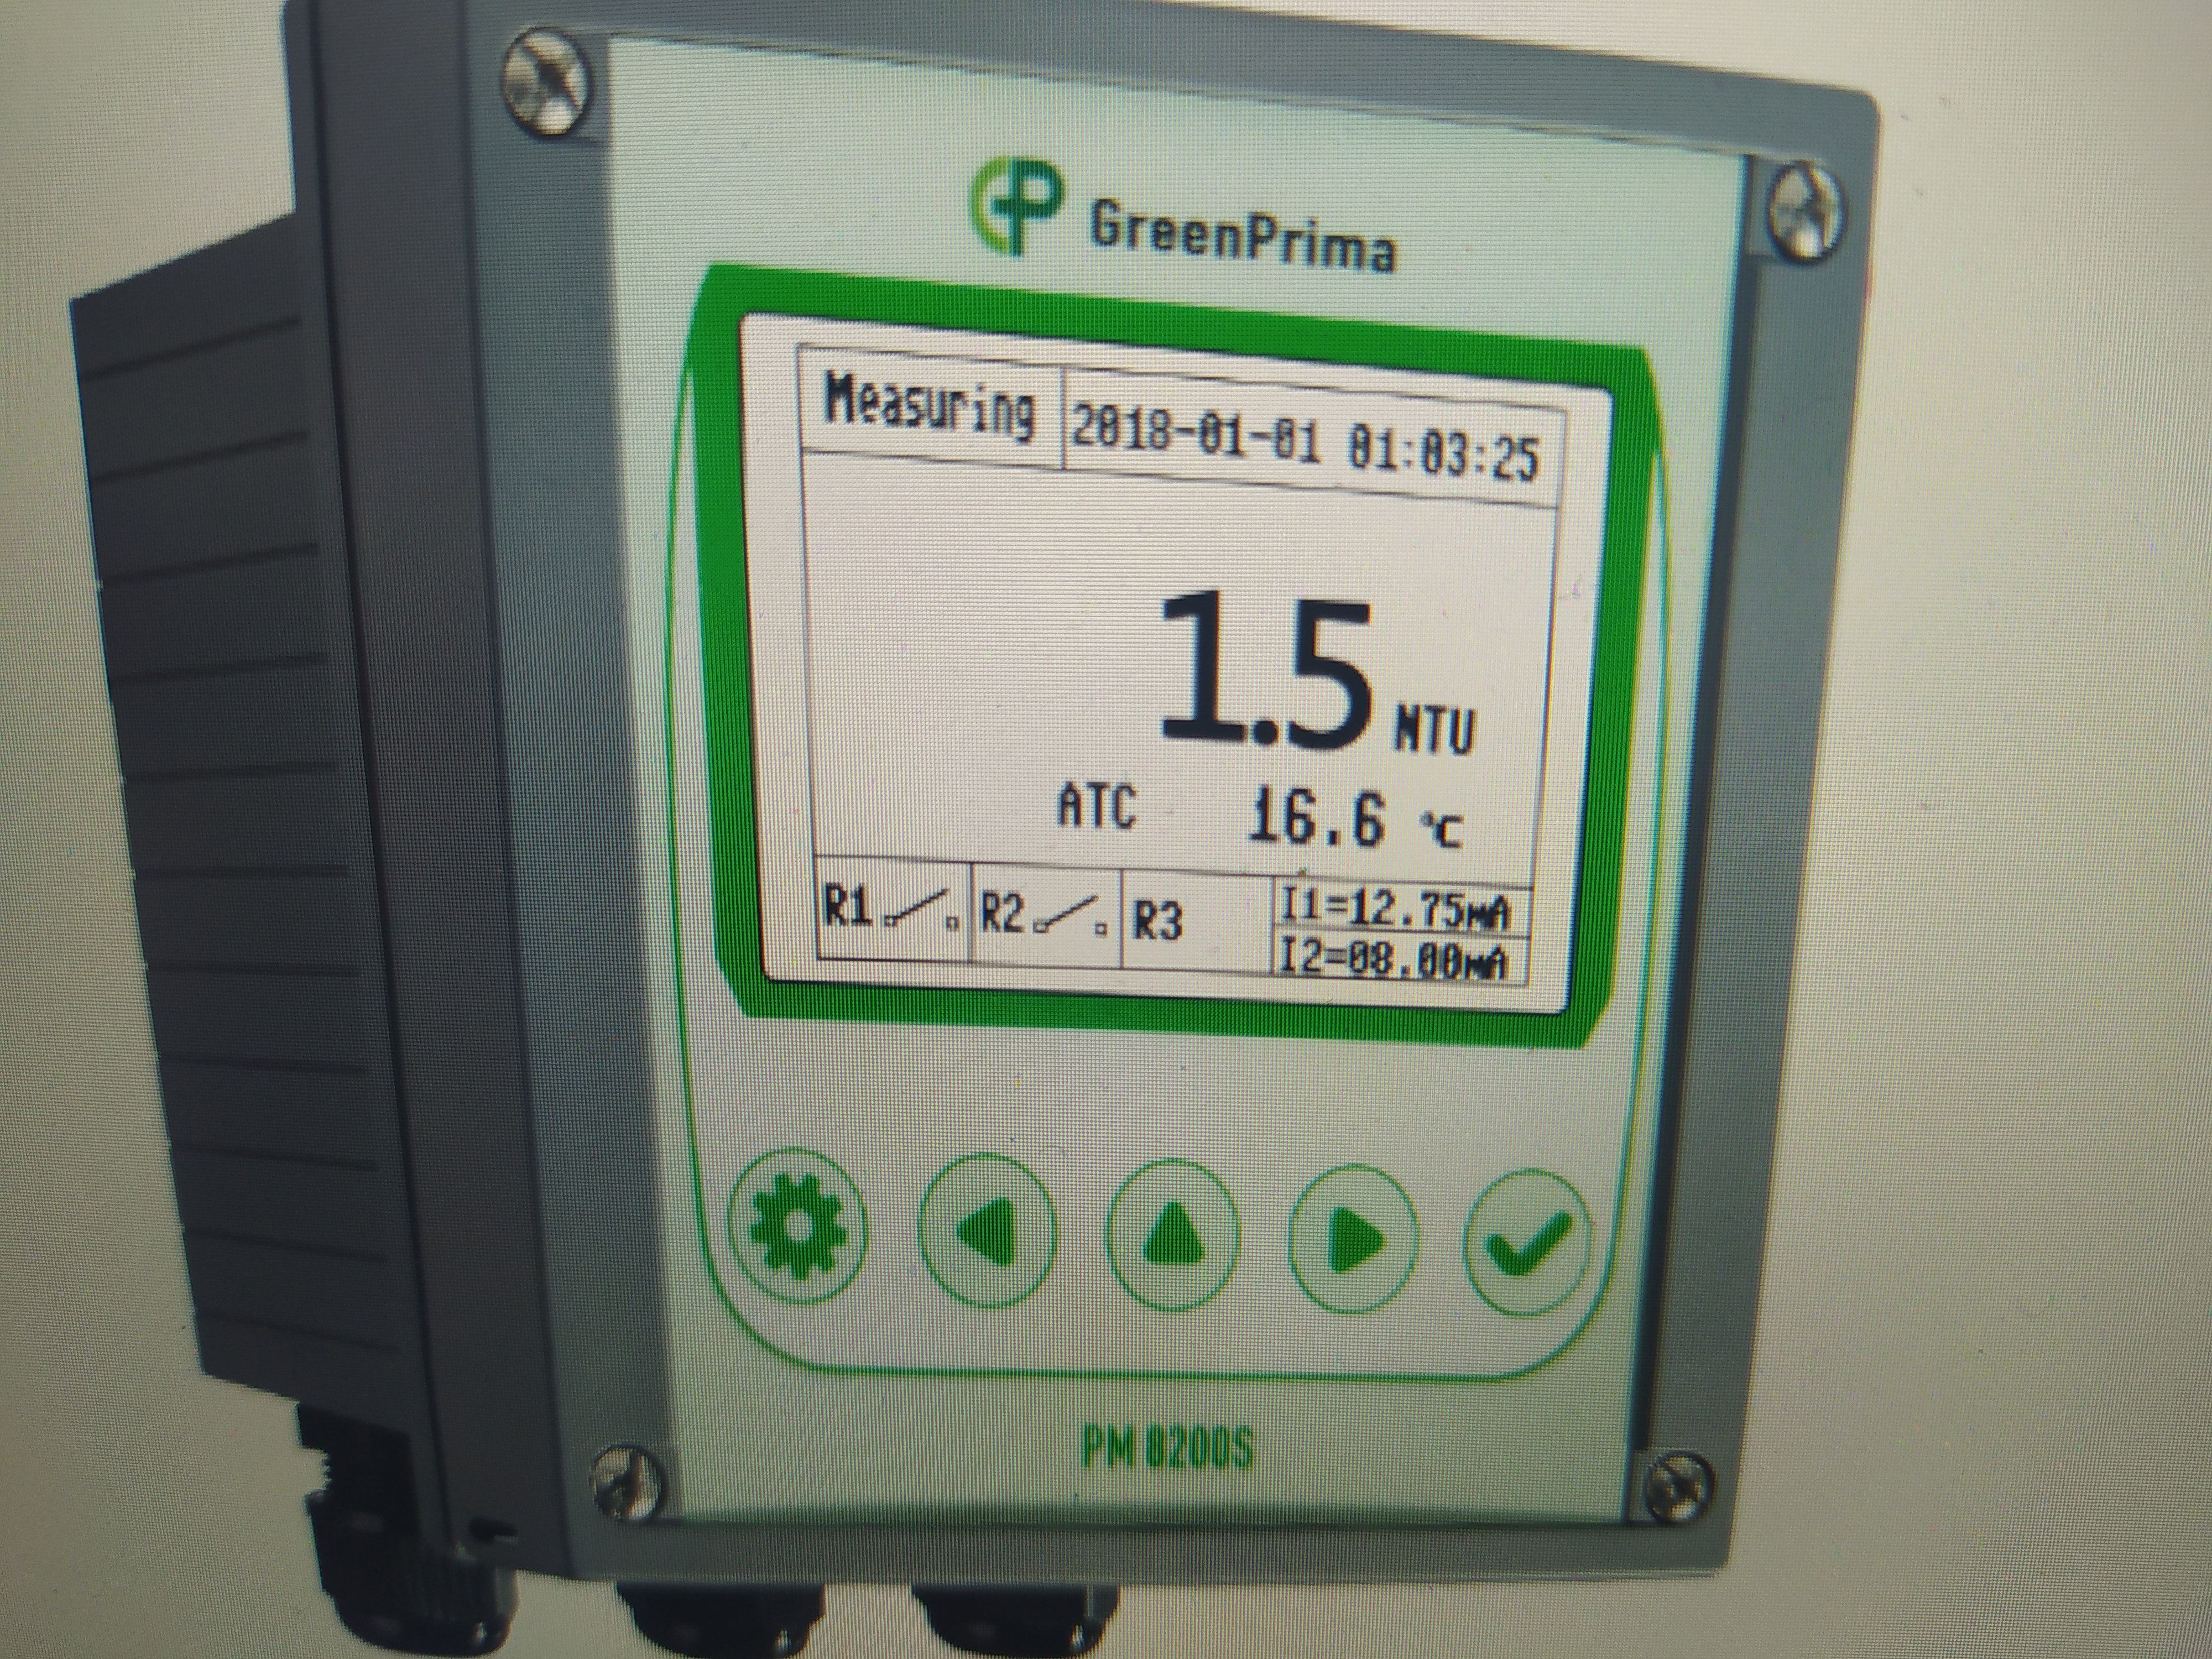.: (1252, 582, 1287, 758), (1325, 777, 1345, 854)
1: (1165, 584, 1252, 753), (1251, 782, 1280, 856)
5: (1285, 589, 1378, 760)
6: (1350, 775, 1390, 857), (1284, 779, 1318, 849)
